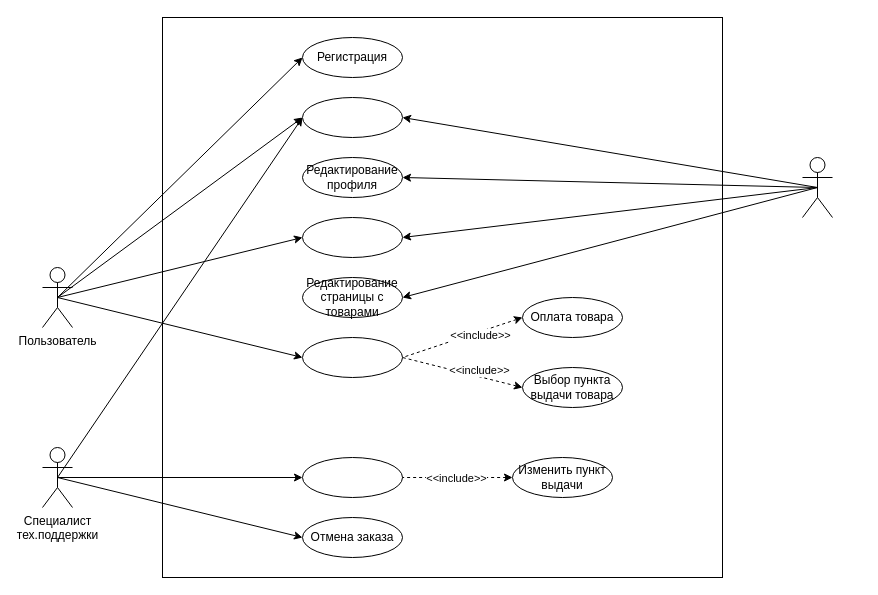
Image size: 878x595. Some labels were removed from this diagram. Here are the shapes that lost their labels. From the top down, the centre of each, then its label:
At [352,117]: "Вход в личный кабинет".
At [817,187]: "Администратор".
At [352,237]: "Просмотр страницы с товарами".
At [352,357]: "Оформление заказа".
At [352,477]: "Редактирование заказа".
